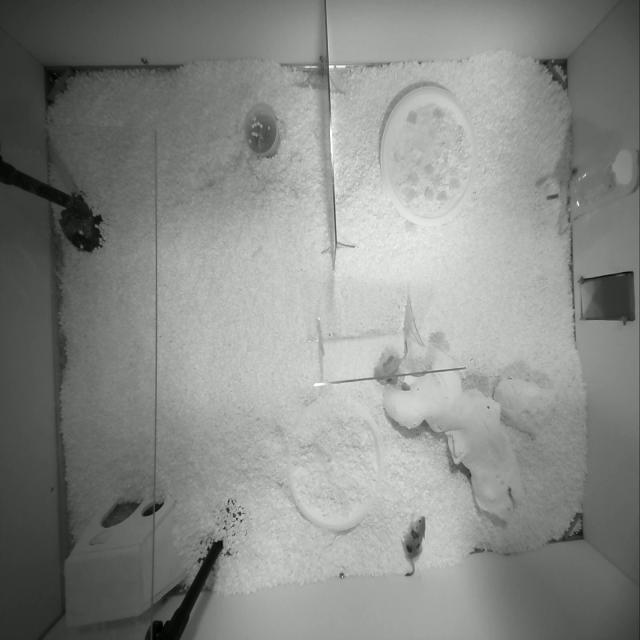pup_spotted: (403, 516, 425, 576)
pup_v_stripe: (374, 335, 408, 380)
